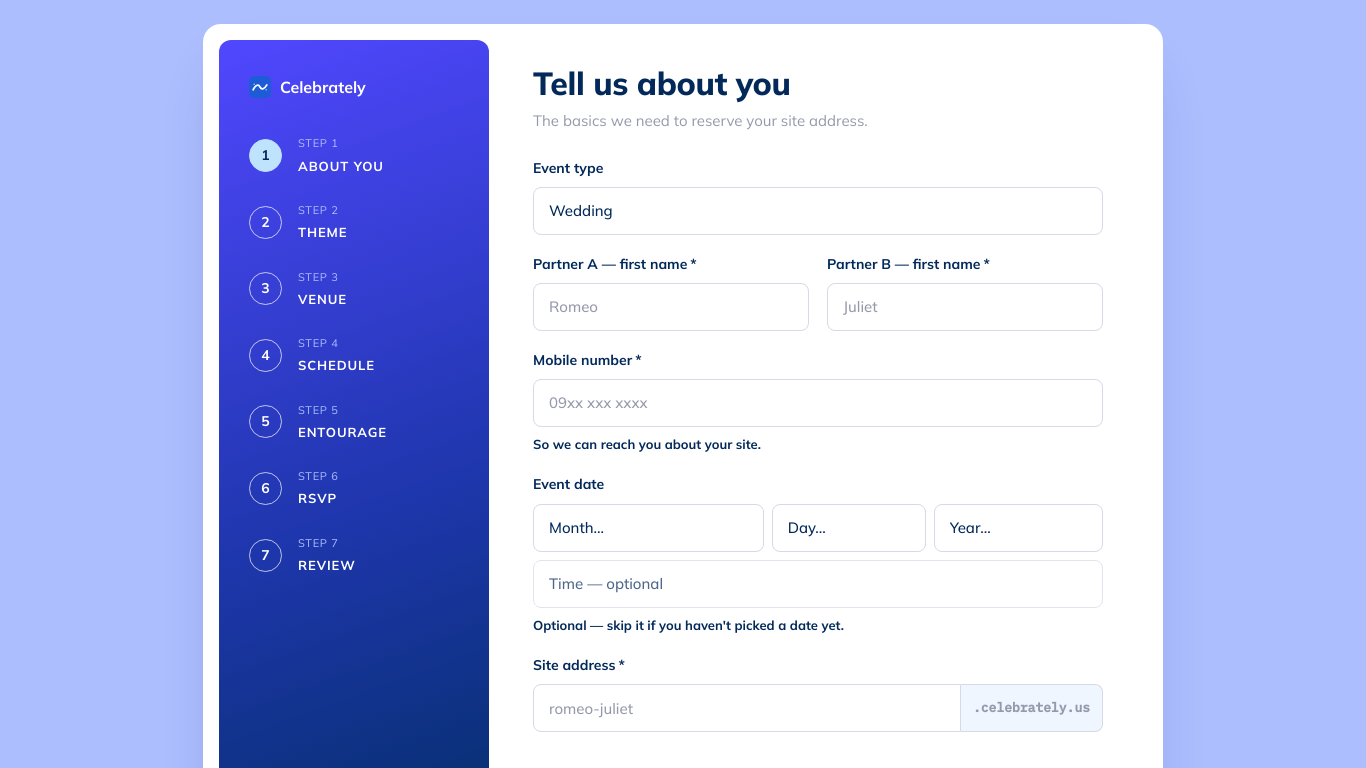
registration — partner names are required › birthday asks for an event title instead — no partner B field at all
Select "Birthday" in the dropdown labelled "Event type" at (818, 211), box [533,187,1103,235]
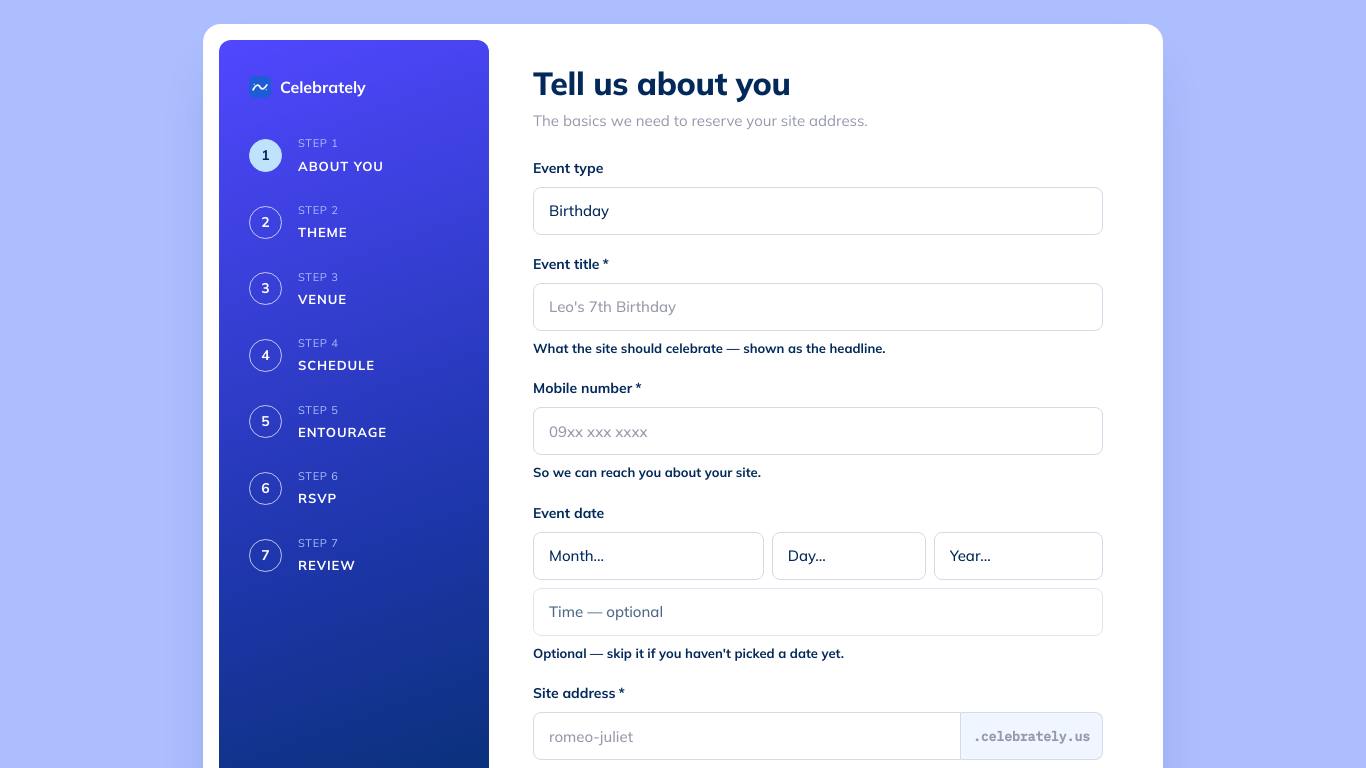
expect the field with id "a-title" is shown: met, box [533,283,1103,331]
expect the field with id "a-pb" is gone: met
